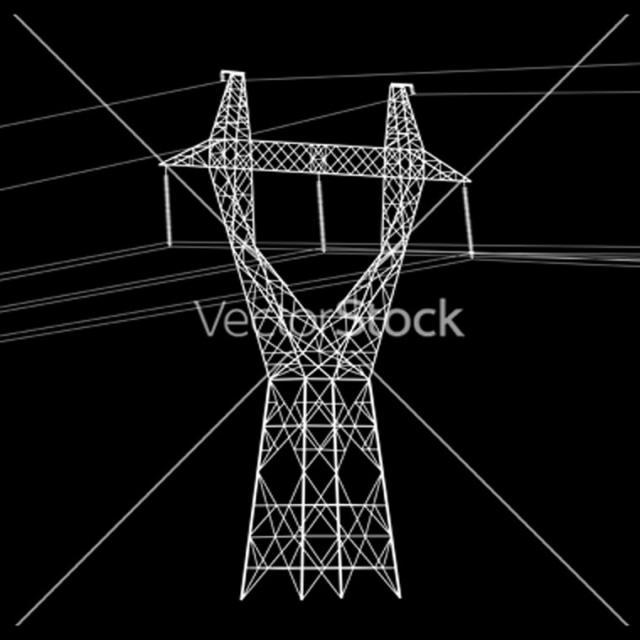non-critical vegetation: (174, 92, 440, 586)
